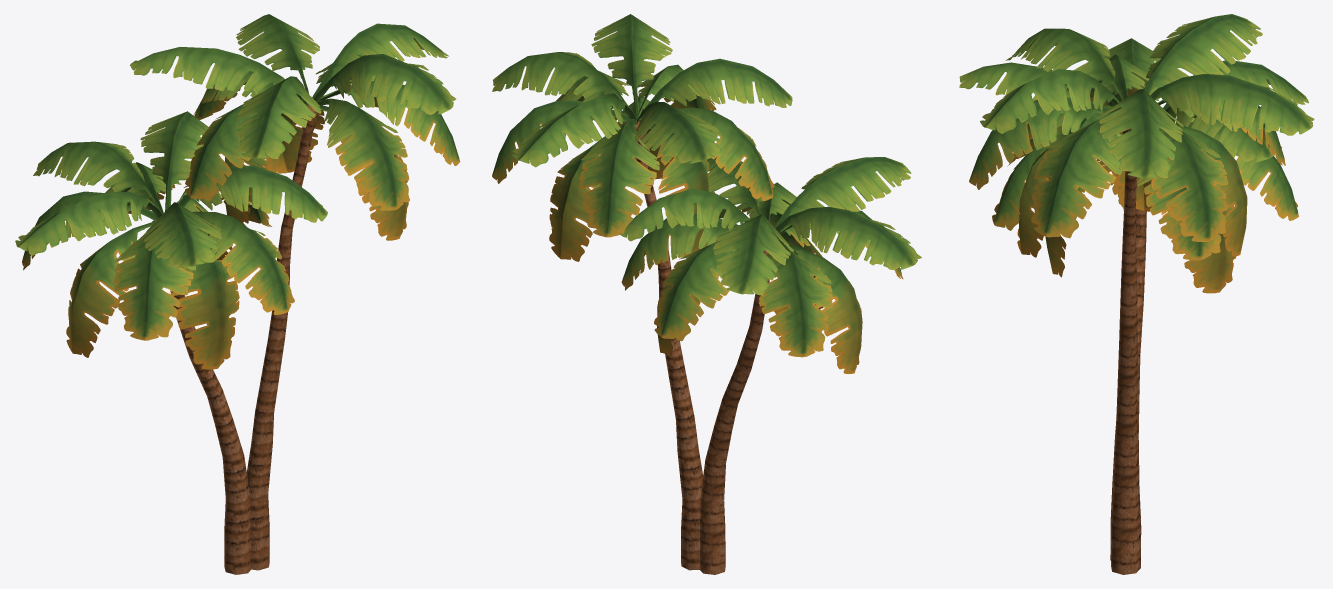
The model's file is Fbx_PalmTree_4.fbx.
3 renders of one model, left to right at view 1: azimuth 30°, elevation 25°; view 2: azimuth 150°, elevation 25°; view 3: azimuth 270°, elevation 25°, orthographic. The views are drawn at different scales.
Visible parts, largest first — view 1: Leaves_4, Tree_4; view 2: Leaves_4, Tree_4; view 3: Leaves_4, Tree_4.
Boxes of the visible parts, left/top/right/bottom form: Leaves_4: left=15, top=14, right=460, bottom=369; Tree_4: left=169, top=105, right=317, bottom=574; Leaves_4: left=492, top=14, right=921, bottom=373; Tree_4: left=635, top=121, right=772, bottom=574; Leaves_4: left=959, top=14, right=1314, bottom=293; Tree_4: left=1110, top=128, right=1146, bottom=574.
Bounding box in the file's own units: 4.7 × 5.31 × 3.18.
Materials: 2 (2 with a texture image).
